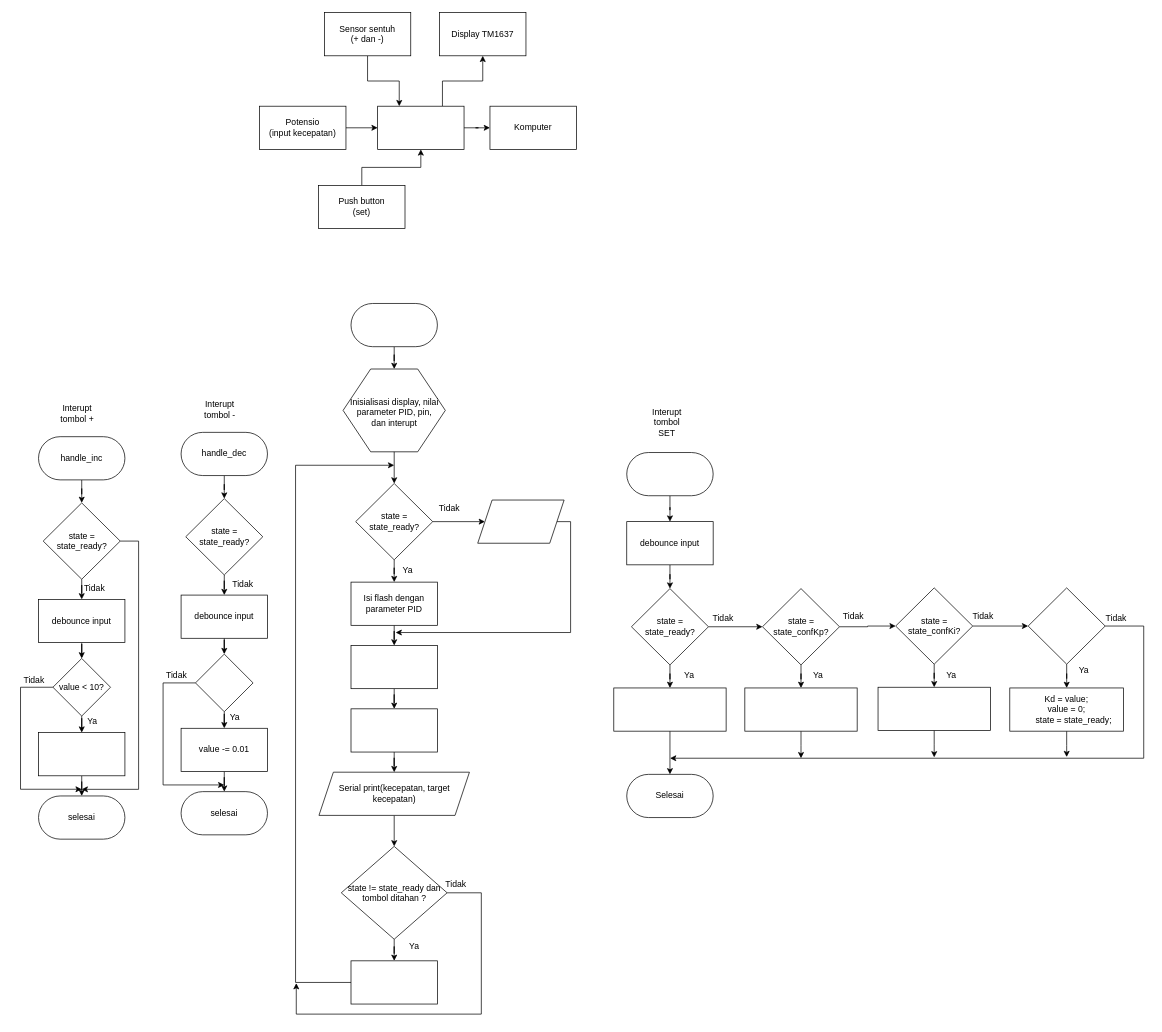
Some shapes in this 1162 by 1032 pixel diagram are drawn without their labels. Here are the shapes that lost their labels. From the top down, the box of each, then its label:
(377, 105, 464, 149): ESP32
(350, 303, 437, 347): Mulai
(626, 452, 713, 496): handle_set
(477, 499, 564, 543): display(value)
(1027, 587, 1105, 664): state = state_confKd?
(195, 653, 253, 712): value > 0?
(350, 645, 437, 689): peroleh target kecepatan
(613, 687, 726, 731): value = Kp; state = state_confKp;
(744, 687, 857, 731): Kp = value; value = Ki; state = state_confKi;
(877, 687, 990, 730): Ki = value; value = Kd; state = state_confKd;
(350, 708, 437, 752): Perhitungan output plant dengan PID
(38, 732, 125, 776): value += 0.01
(350, 960, 437, 1004): value bertambah 0.5 setiap 0.5 s.
